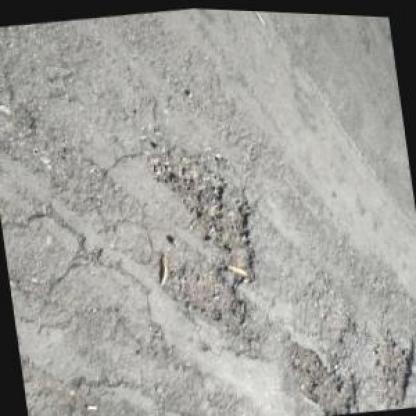pothole: (140, 137, 269, 342), (366, 320, 415, 408)
